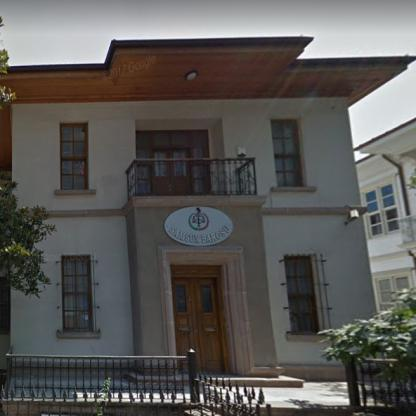door: (171, 266, 229, 373), (154, 149, 192, 196)
window: (135, 129, 211, 195), (284, 258, 318, 333), (64, 255, 92, 332), (362, 182, 400, 238), (271, 119, 302, 186), (60, 124, 88, 190), (374, 272, 412, 312)
